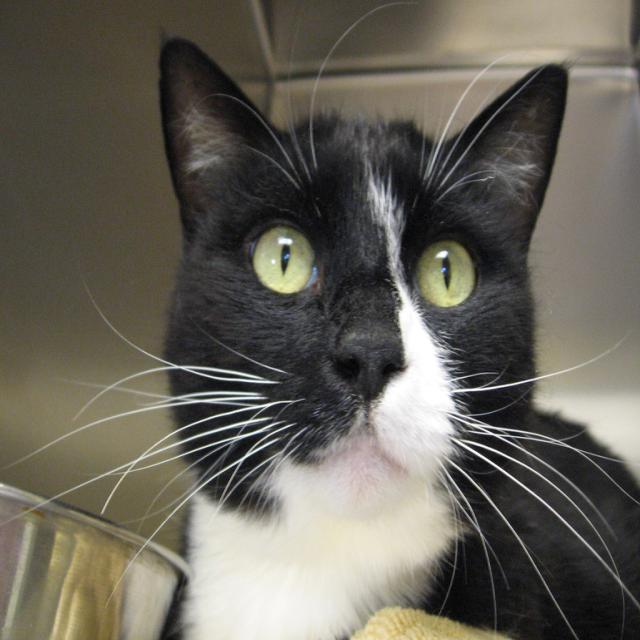cat: (4, 3, 639, 639)
